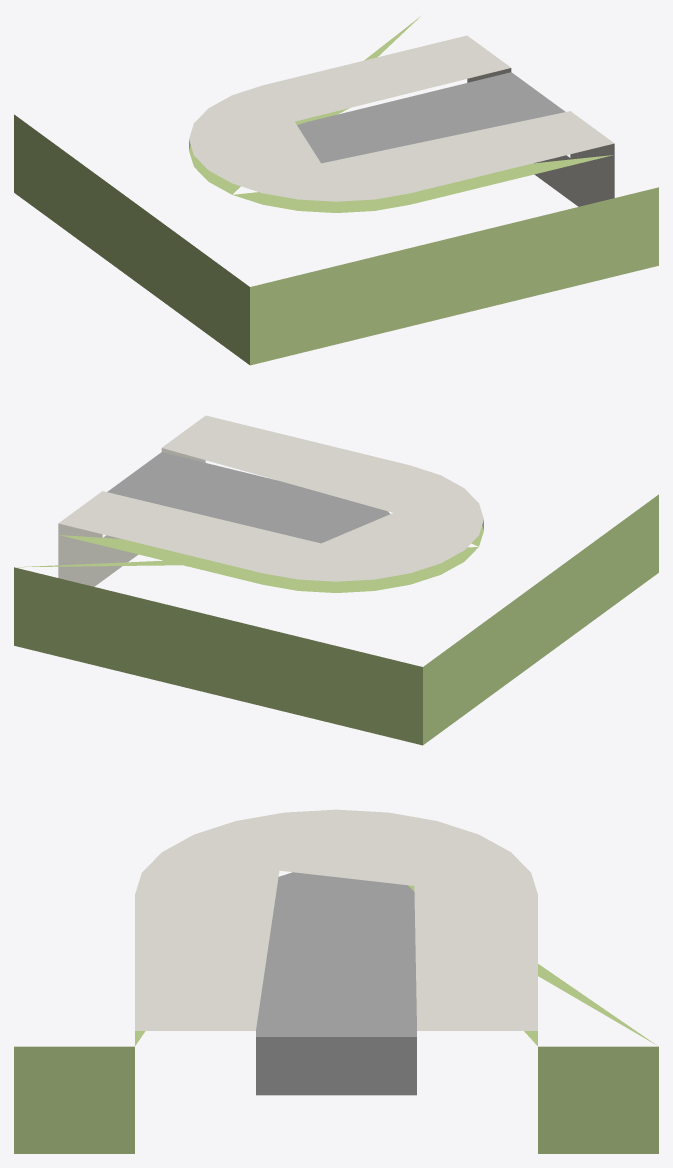
Rendered from roadTile_143.glb.
3 renders of one model, top to bottom at view 1: azimuth 30°, elevation 25°; view 2: azimuth 150°, elevation 25°; view 3: azimuth 270°, elevation 25°, orthographic. The views are drawn at different scales.
Visible parts, largest first — view 1: Mesh1 Group1 Model; view 2: Mesh1 Group1 Model; view 3: Mesh1 Group1 Model.
Boxes of the visible parts, x1,y1,x2,y2 form: Mesh1 Group1 Model: [14, 16, 658, 365]; Mesh1 Group1 Model: [14, 415, 658, 745]; Mesh1 Group1 Model: [14, 809, 658, 1153].
Bounding box in the file's own units: 3 × 0.63 × 3.
